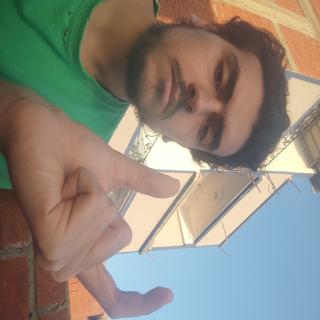NOON: (58, 183, 239, 320)
